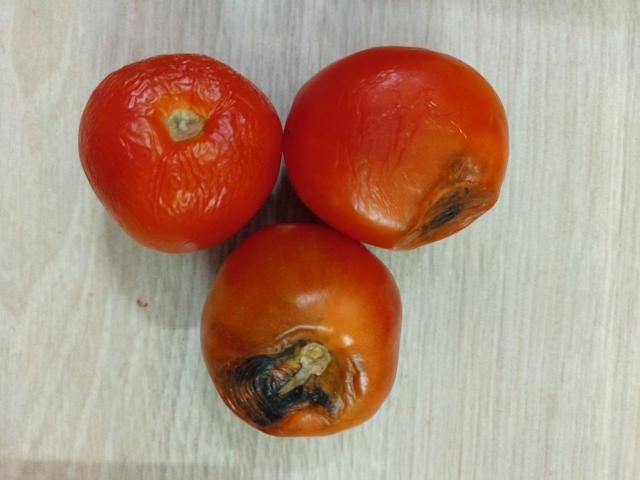defect: (283, 40, 513, 254), (196, 219, 407, 440)
